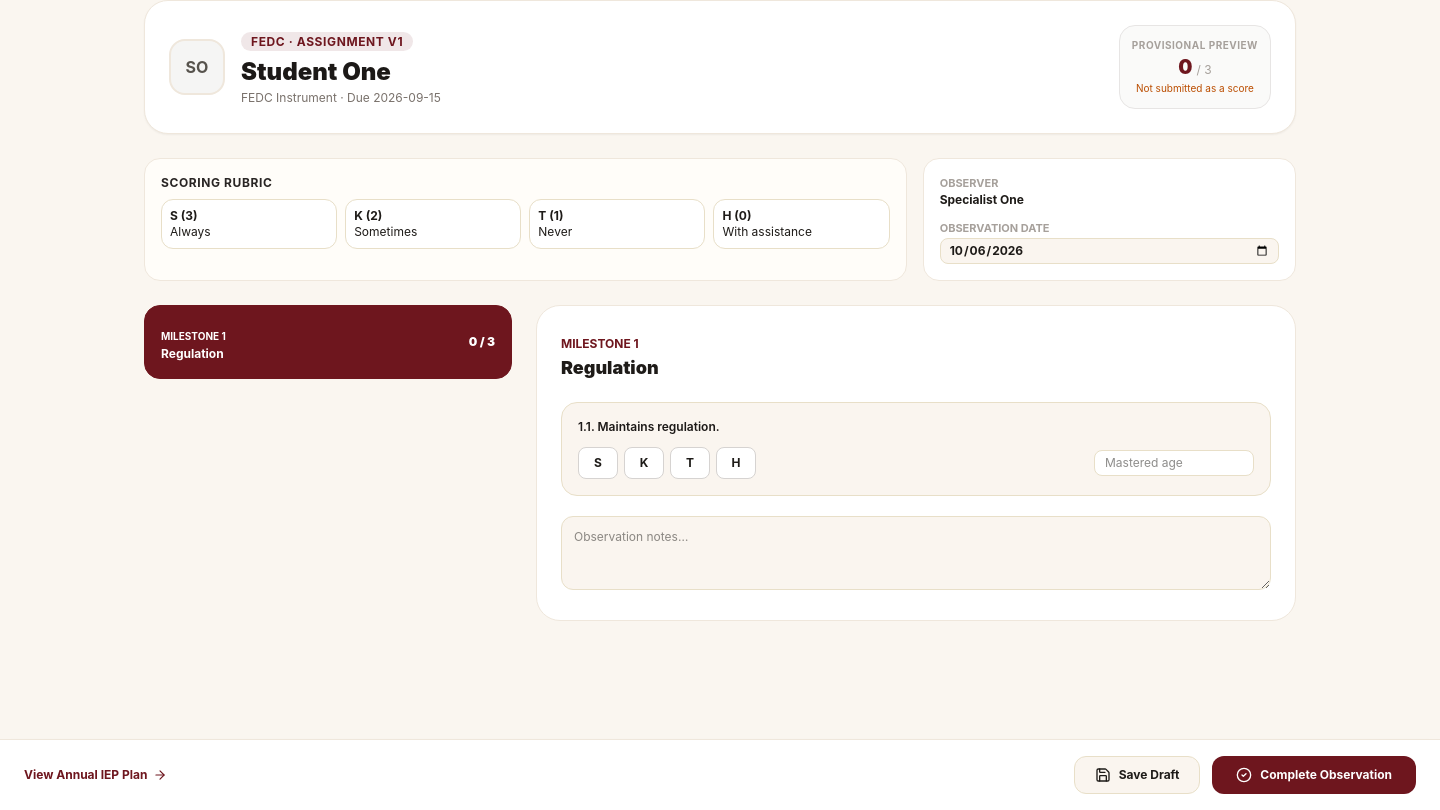
it: FEDCObservationView › retries completion against the created draft after initial validation failure
Step 1. Click the button "Complete Observation" → (1314, 775), box [1212,756,1416,794]
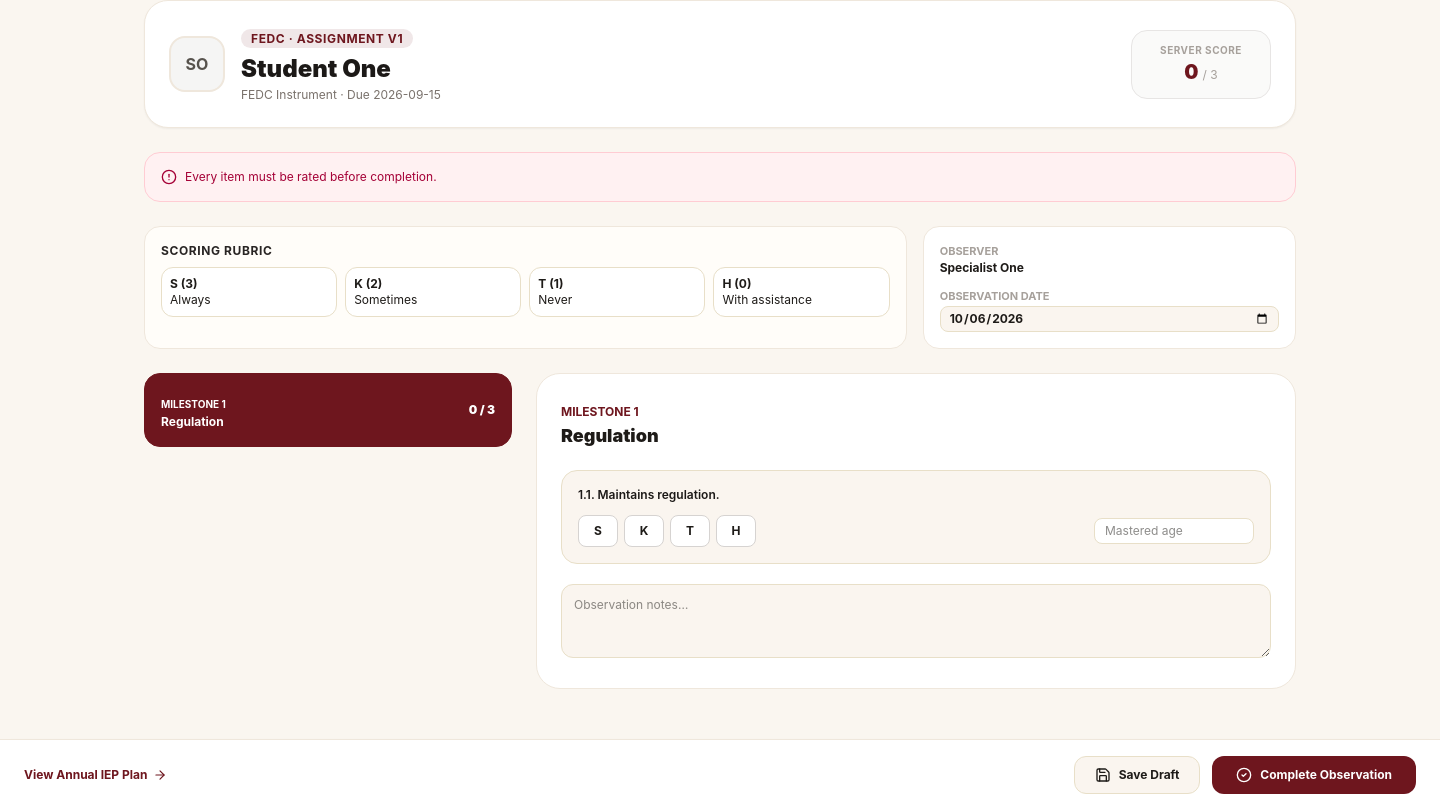
Now the text "Every item must be rated before completion." is shown, box [144,152,1296,202]
Step 2. Click the button "S" → (598, 531), box [578,515,618,547]
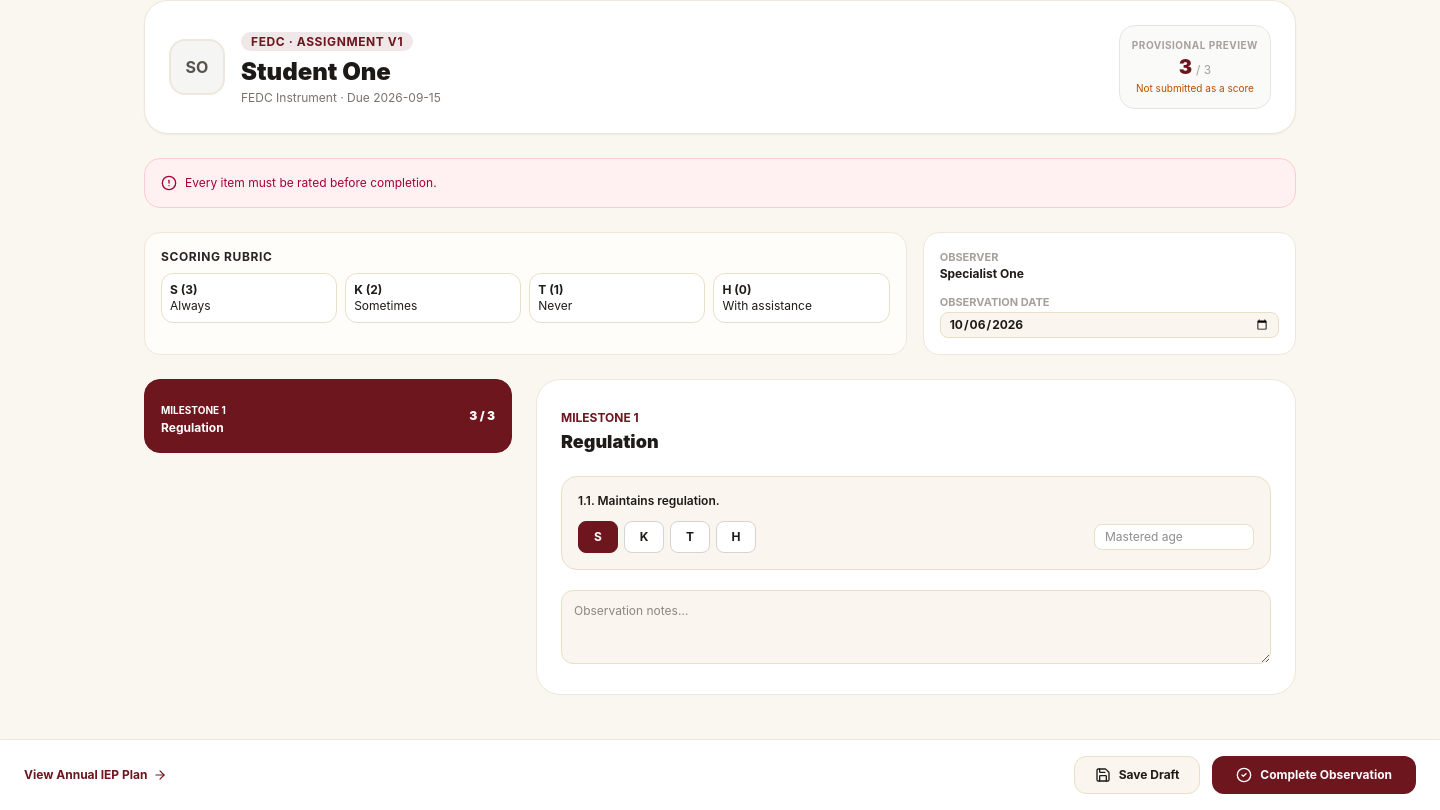
Step 3. Click the button "Complete Observation" → (1314, 775), box [1212,756,1416,794]
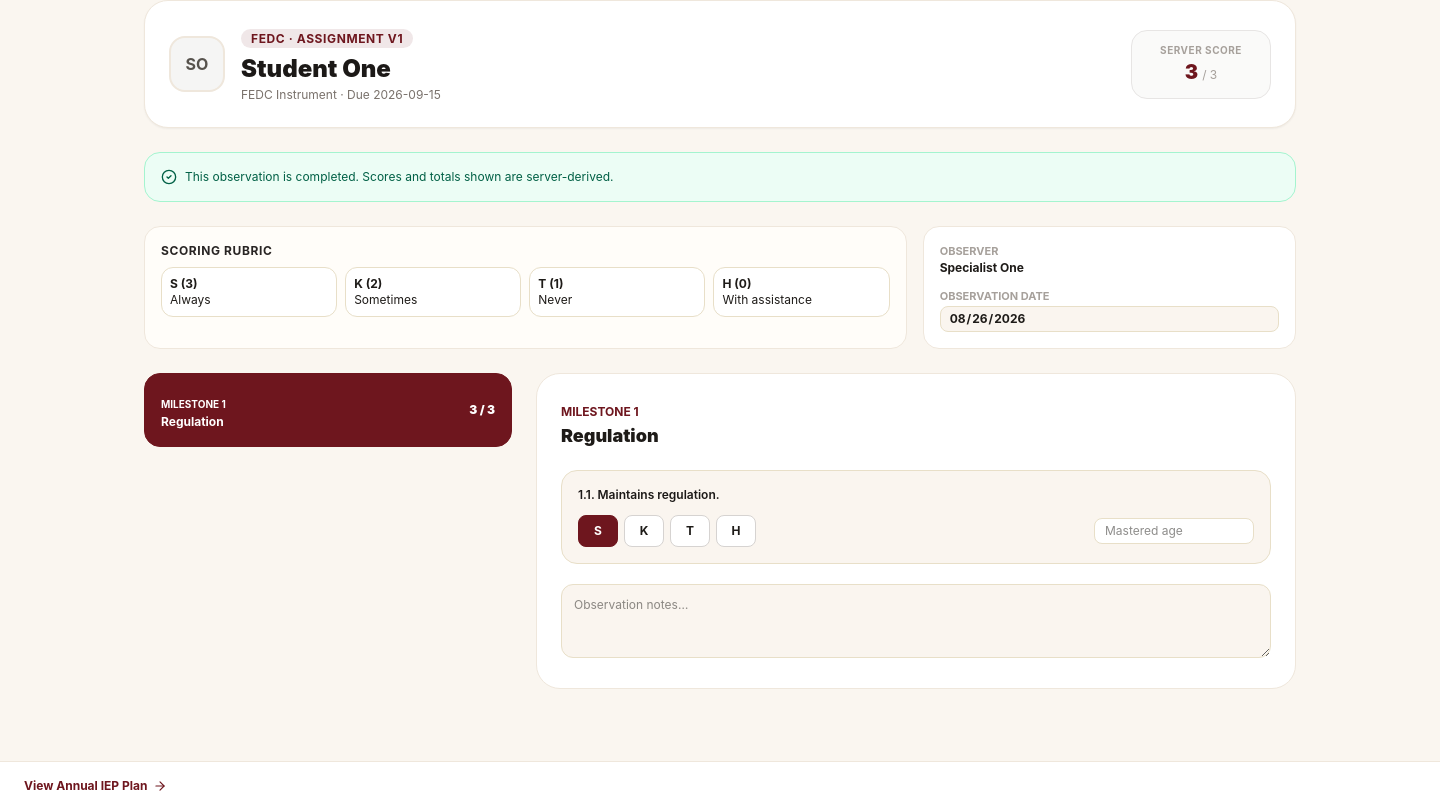
Now the text "This observation is completed. Scores and totals shown are server-derived." is shown, box [144,152,1296,202]
